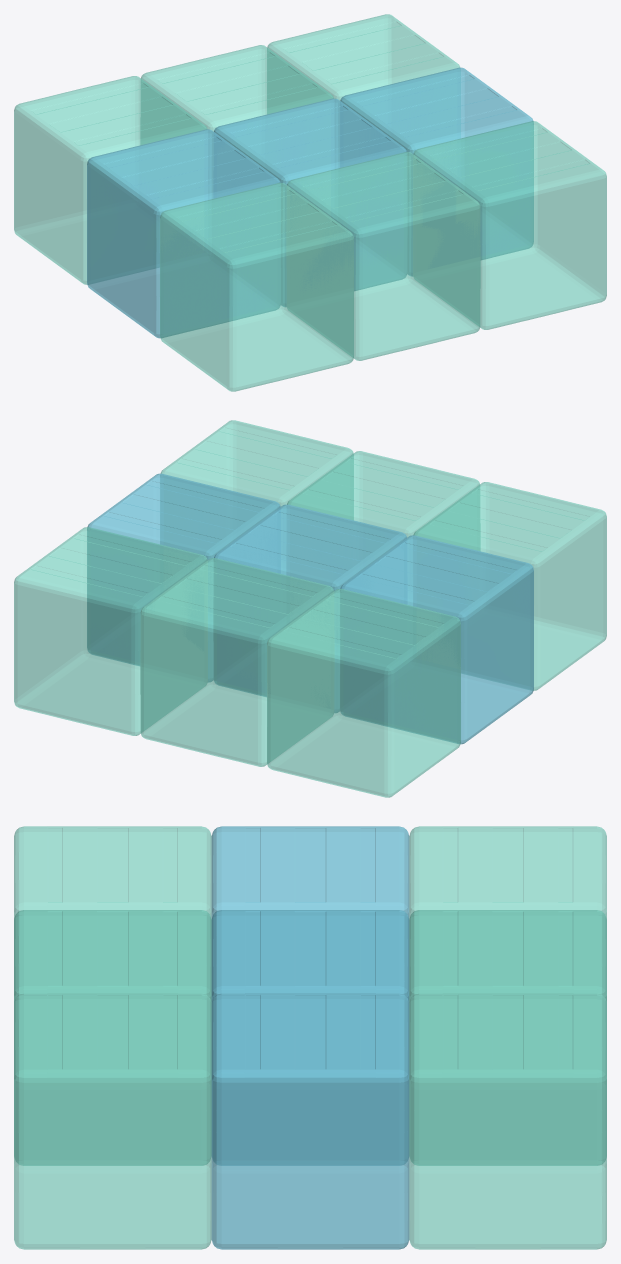
The model's file is ice 3x3_2.fbx.
The picture shows the model from 3 angles, top to bottom: view 1: azimuth 30°, elevation 25°; view 2: azimuth 150°, elevation 25°; view 3: azimuth 270°, elevation 25°; orthographic projection. The views are drawn at different scales.
Visible parts, largest first — view 1: Cube.004, Cube.010, Cube.003; view 2: Cube.003, Cube.010, Cube.004; view 3: Cube.010, Cube.003, Cube.004.
Boxes of the visible parts, box(x1,y1,x2,y2) form: Cube.004: box(160, 121, 606, 391); Cube.010: box(87, 67, 533, 338); Cube.003: box(14, 14, 460, 284); Cube.003: box(14, 527, 460, 797); Cube.010: box(87, 473, 533, 744); Cube.004: box(160, 420, 606, 690); Cube.010: box(211, 826, 409, 1249); Cube.003: box(409, 826, 606, 1249); Cube.004: box(14, 826, 211, 1249).
Bounding box in the file's own units: 1200 × 400 × 1200.
